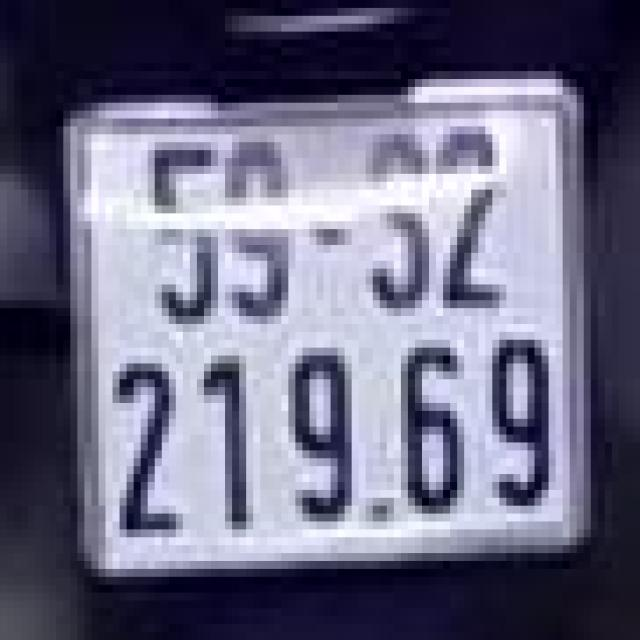1: (200, 344, 264, 541)
2: (98, 336, 190, 557), (436, 118, 520, 324)
5: (137, 126, 222, 332)
6: (390, 328, 475, 510)
9: (271, 336, 369, 533), (478, 328, 570, 517), (218, 126, 302, 316)
S: (355, 130, 433, 328)
